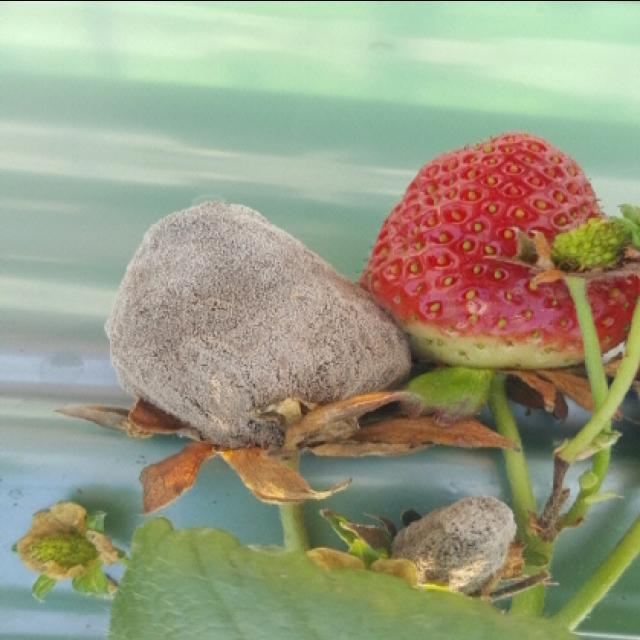Gray Mold: (105, 198, 519, 515), (344, 493, 549, 598)
